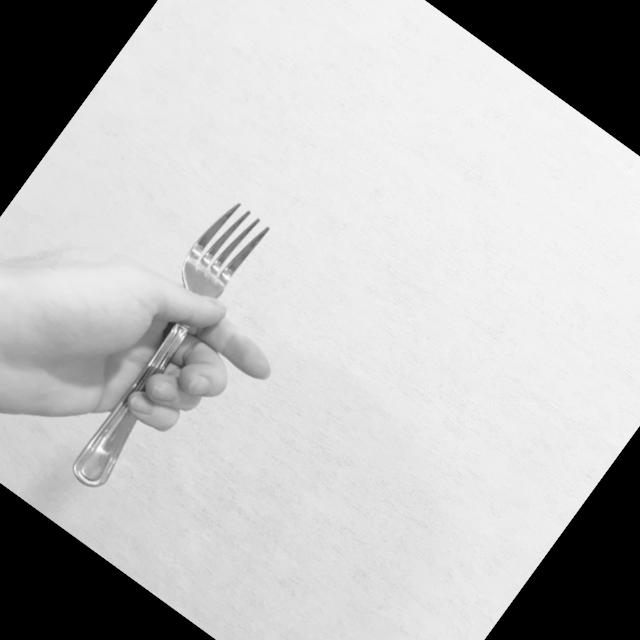fork: (37, 190, 287, 496)
